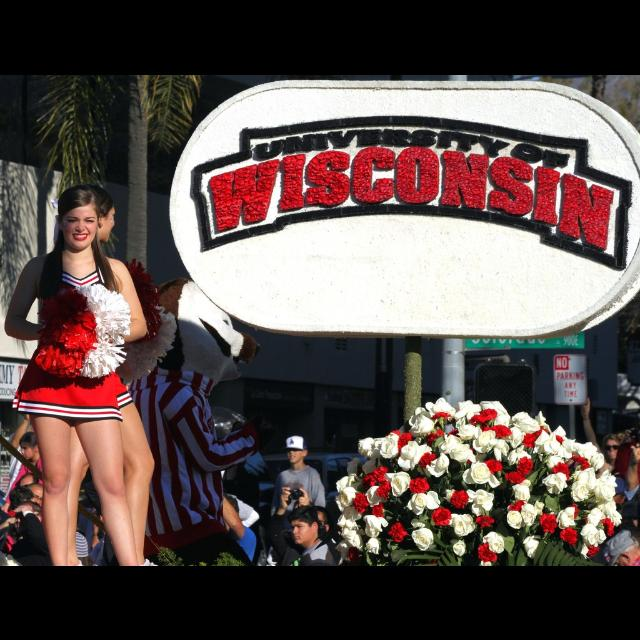Flower: (338, 397, 624, 566), (406, 491, 428, 515)
